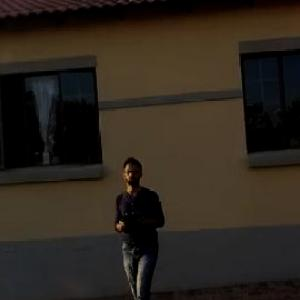follow: (109, 151, 170, 299)
